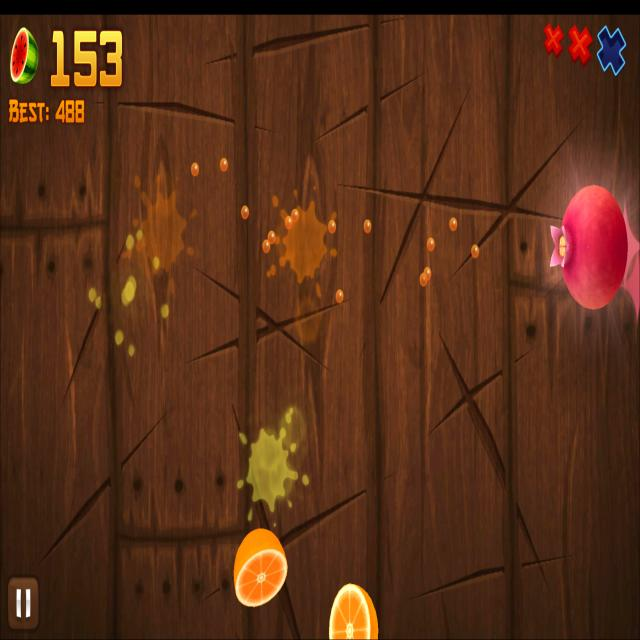fruit: (562, 186, 628, 310)
